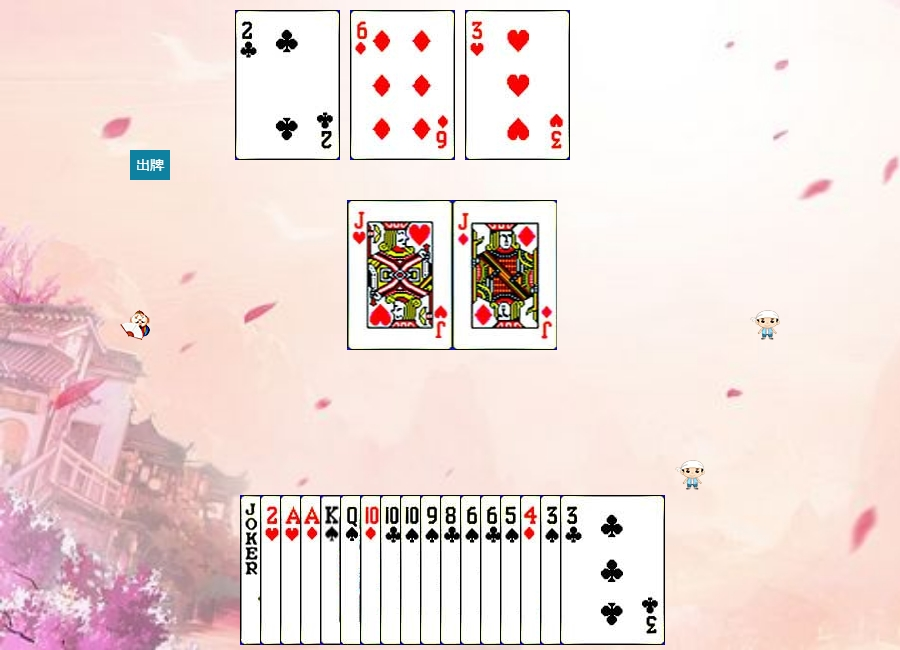10~1: (360, 495, 465, 645)
10~2: (380, 495, 485, 645)
10~4: (400, 495, 505, 645)
11~1: (453, 200, 558, 350)
11~3: (348, 200, 453, 350)
12~4: (340, 495, 445, 645)
13~4: (320, 495, 425, 645)
14~1: (300, 495, 405, 645)
14~3: (280, 495, 385, 645)
15~2: (235, 10, 340, 160)
15~3: (260, 495, 365, 645)
17~3: (240, 495, 345, 645)
3~2: (560, 495, 665, 645)
3~3: (465, 10, 570, 160)
3~4: (540, 495, 645, 645)
4~1: (520, 495, 625, 645)
5~4: (500, 495, 605, 645)
6~1: (350, 10, 455, 160)
6~2: (480, 495, 585, 645)
6~4: (460, 495, 565, 645)
8~2: (440, 495, 545, 645)
9~4: (420, 495, 525, 645)
